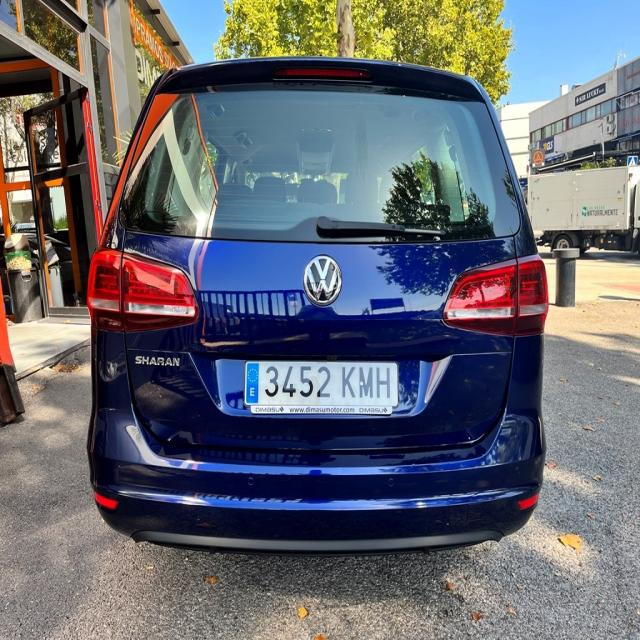license_plate-34Td: (244, 361, 398, 414)
